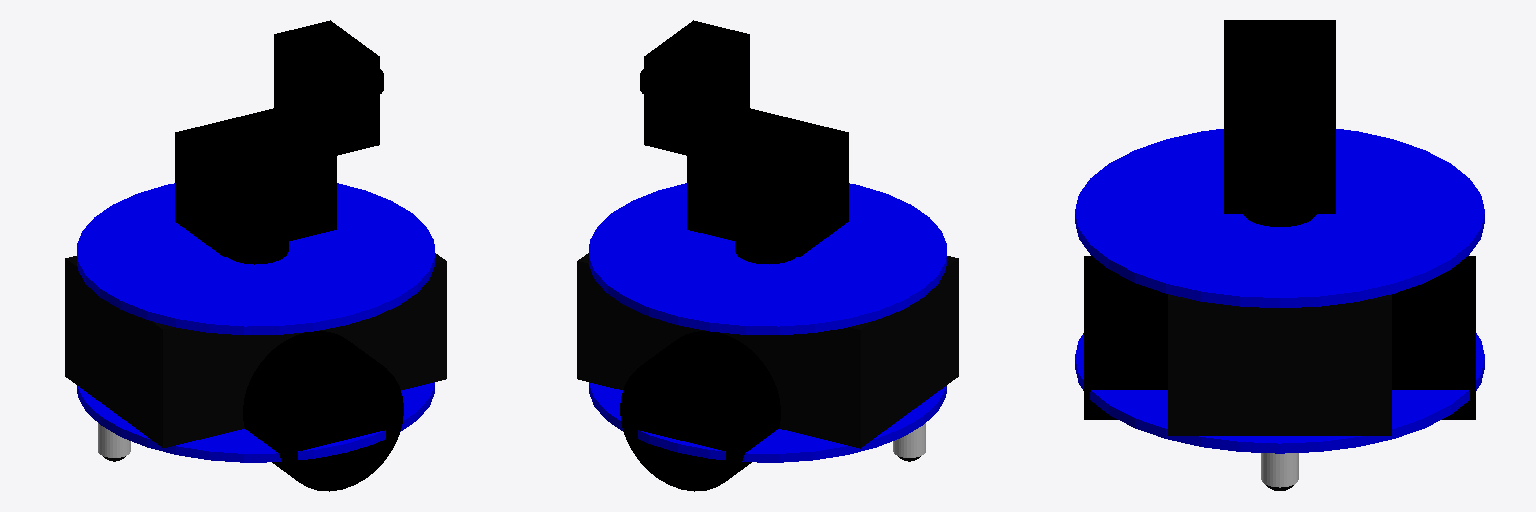
robot.urdf — Waveshare_Alphabot2:
<robot name="Waveshare_Alphabot2" xmlns:xacro="http://www.ros.org/wiki/xacro">
<!-- Colour definitions -->
<material name="black">
    <color rgba="0.0 0.0 0.0 1.0"/>
</material>
<material name="white">
    <color rgba="0.8 0.8 0.8 1.0"/>
</material>
<material name="grey">
    <color rgba="0.05 0.05 0.05 1.0"/>
</material>
<material name="blue">
    <color rgba="0.0 0.0 1.0 1.0"/>
</material>
<!-- * * * Link Definitions * * * -->
<link name="base_link">
      <visual>
        <origin xyz="0 0 0" rpy="0 0 0"/>
        <axis xyz="0 0 0" />
        <geometry>
            <cylinder radius="0.055" length="0.003"/>
        </geometry>
        <material name="blue"/>
    </visual>
</link>
<link name="body">
    <visual>
        <geometry>
            <box size="0.1 0.06 0.04"/>
        </geometry>
        <material name="grey"/>
    </visual>
</link>
<link name="top">
      <visual>
        <origin xyz="0 0 0" rpy="0 0 0"/>
        <axis xyz="0 0 0" />
        <geometry>
            <cylinder radius="0.055" length="0.003"/>
        </geometry>
        <material name="blue"/>
    </visual>
</link>
<link name="servoPanNeck">
    <visual>
        <origin xyz="0.0 0.0 0.0" />
        <geometry>
            <cylinder radius="0.010" length="0.010"/>
        </geometry>
        <material name="black" />
    </visual>
</link>
<link name="servoPan">
    <visual>
        <origin xyz="0.0 0.0 0.0" />
        <geometry>
            <box size="0.04 0.03 0.03"/>
        </geometry>
        <material name="black" />
    </visual>
</link>
<link name="servoTilt">
    <visual>
        <origin xyz="0.005 0.0 0.01" />
        <geometry>
            <box size="0.02 0.03 0.03"/>
        </geometry>
        <material name="black" />
    </visual>
</link>
<link name="camera">
    <visual>
        <origin xyz="0 0 0" rpy="0 0 0"/>
        <geometry>
            <cylinder radius="0.0075" length="0.005"/>
        </geometry>
        <material name="black" />
    </visual>
</link>
<link name="wheelLeft">
    <visual>
        <origin xyz="0 0 0" rpy="1.5708 0 0"/>
        <axis xyz="0 0 0.0" />
        <geometry>
            <cylinder radius="0.022" length="0.025"/>
        </geometry>
        <material name="black" />
    </visual>
</link>
<link name="wheelRight">
    <visual>
        <origin xyz="0 0 0" rpy="1.5708 0 0"/>
        <axis xyz="0 0 0.0" />
        <geometry>
            <cylinder radius="0.022" length="0.025"/>
        </geometry>
        <material name="black" />
    </visual>
</link>
<link name="casterFront">
    <visual>
        <origin xyz="0 0 0" rpy="0 0 0"/>
        <axis xyz="0 0 0.0" />
        <geometry>
            <cylinder radius="0.005" length="0.01"/>
        </geometry>
        <material name="white" />
    </visual>
</link>
<link name="casterBallFront">
    <visual>
        <origin xyz="0 0 0" rpy="0 0 0"/>
        <axis xyz="0 0 0.0" />
        <geometry>
            <sphere radius="0.005"/>
        </geometry>
        <material name="grey" />
    </visual>
</link>
<link name="casterRear">
    <visual>
        <origin xyz="0 0 0" rpy="0 0 0"/>
        <axis xyz="0 0 0.0" />
        <geometry>
            <cylinder radius="0.005" length="0.01"/>
        </geometry>
        <material name="white" />
    </visual>
</link>
<link name="casterBallRear">
    <visual>
        <origin xyz="0 0 0" rpy="0 0 0"/>
        <axis xyz="0 0 0.0" />
        <geometry>
            <sphere radius="0.005"/>
        </geometry>
        <material name="grey" />
    </visual>
</link>
<!-- Body -->
<joint name="body_joint" type="fixed">
    <origin xyz="0 0 0.0215" rpy="0 0 0"/>
    <parent link="base_link"/>
    <child link="body"/>
</joint>
<joint name="top_joint" type="fixed">
    <origin xyz="0 0 0.0215" rpy="0 0 0"/>
    <parent link="body"/>
    <child link="top"/>
</joint>
<joint name="casterFront_joint" type="fixed">
    <origin xyz="0.05 0.0 -0.0065" rpy="0 0 0"/>
    <parent link="base_link"/>
    <child link="casterFront"/>
</joint>
<joint name="casterBallFront_joint" type="fixed">
    <origin xyz="0.0 0.0 -0.003" rpy="0 0 0"/>
    <parent link="casterFront"/>
    <child link="casterBallFront"/>
</joint>
<joint name="casterRear_joint" type="fixed">
    <origin xyz="-0.05 0.0 -0.0065" rpy="0 0 0"/>
    <parent link="base_link"/>
    <child link="casterRear"/>
</joint>
<joint name="casterBallRear_joint" type="fixed">
    <origin xyz="0.0 0.0 -0.003" rpy="0 0 0"/>
    <parent link="casterRear"/>
    <child link="casterBallRear"/>
</joint>
<!-- Head Tilt/Pan -->
<joint name="servoPanNeck_joint" type="fixed">
    <origin xyz="0.0 0.0 0.005" rpy="0 0 0"/>
    <parent link="top"/>
    <child link="servoPanNeck"/>
</joint>
<joint name="headPan_joint" type="revolute">
    <origin xyz="0.0 0.0 0.02" rpy="0 0 0"/>
    <axis xyz="0 0 1" />
    <parent link="servoPanNeck"/>
    <child link="servoPan"/>
    <limit effort="100" velocity="1.0" lower="-1.5708" upper="1.5708" />
</joint>
<joint name="headTilt_joint" type="revolute">
    <origin xyz="0.02 0.0 0.015" rpy="0 0 0"/>
    <axis xyz="0 1 0" />
    <parent link="servoPan"/>
    <child link="servoTilt"/> 
    <limit effort="100" velocity="1.0" lower="-1.0" upper="1.0" />
</joint>
<!-- Camera -->
<joint name="camera_joint" type="fixed">
    <origin xyz="0.0165 0.0 0.01" rpy="0 0 0"/>
    <parent link="servoTilt"/>
    <child link="camera"/>
</joint>
<!-- Left Wheel Joint -->
<joint name="wheelLeft_joint" type="fixed">
    <origin xyz="0.0 0.04 0.007" rpy="0 0 0"/>
    <axis xyz="0 1 0" />
    <parent link="base_link"/>
    <child link="wheelLeft"/> 
</joint>
<!-- Right Wheel Joint -->
<joint name="wheelRight_joint" type="fixed">
    <origin xyz="0.0 -0.04 0.007" rpy="0 0 0"/>
    <axis xyz="0 1 0" />
    <parent link="base_link"/>
    <child link="wheelRight"/> 
</joint>
<!-- Gazebo plugin for ROS Control -->
<transmission name="tranRight">
    <type>transmission_interface/SimpleTransmission</type>
    <joint name="wheelRight">
        <hardwareInterface>EffortJointInterface</hardwareInterface>
    </joint>
    <actuator name="motorRight">
        <hardwareInterface>EffortJointInterface</hardwareInterface>
        <mechanicalReduction>1</mechanicalReduction>
    </actuator>
</transmission>
<transmission name="tranLeft">
    <type>transmission_interface/SimpleTransmission</type>
    <joint name="jointLeft">
        <hardwareInterface>EffortJointInterface</hardwareInterface>
    </joint>
    <actuator name="motorLeft">
        <hardwareInterface>EffortJointInterface</hardwareInterface>
        <mechanicalReduction>1</mechanicalReduction>
    </actuator>
</transmission>
<gazebo>
  <plugin name="gazebo_ros_control" filename="libgazebo_ros_control.so">
    <robotNamespace>/Waveshare_Alphabot2</robotNamespace>
  </plugin>
</gazebo>
</robot>

--- Facts derived from the render (not from the file) ---
The picture shows the robot from 3 angles, left to right: view 1: azimuth 30°, elevation 25°; view 2: azimuth 150°, elevation 25°; view 3: azimuth 270°, elevation 25°; orthographic projection.
Robot: Waveshare_Alphabot2 — 13 links, 12 joints (2 revolute, 10 fixed); root link base_link; default pose: all joints at 0.
Visible links, largest first — view 1: top, body, servoPan, wheelRight, servoTilt, base_link, servoPanNeck, casterRear; view 2: top, body, servoPan, wheelLeft, servoTilt, base_link, servoPanNeck, casterRear; view 3: top, body, servoTilt, wheelLeft, wheelRight, base_link, servoPan, camera, casterFront, servoPanNeck.
Link boxes in pixels (left/top/right/bottom): top: left=77, top=183, right=434, bottom=334; body: left=65, top=253, right=446, bottom=448; servoPan: left=175, top=108, right=336, bottom=256; wheelRight: left=243, top=331, right=403, bottom=491; servoTilt: left=274, top=20, right=379, bottom=158; base_link: left=77, top=382, right=434, bottom=462; servoPanNeck: left=227, top=242, right=288, bottom=264; casterRear: left=98, top=423, right=130, bottom=457; top: left=589, top=183, right=946, bottom=334; body: left=577, top=253, right=958, bottom=448; servoPan: left=687, top=108, right=848, bottom=256; wheelLeft: left=620, top=331, right=780, bottom=491; servoTilt: left=644, top=20, right=749, bottom=157; base_link: left=589, top=382, right=946, bottom=462; servoPanNeck: left=735, top=242, right=796, bottom=264; casterRear: left=893, top=423, right=925, bottom=457; top: left=1075, top=129, right=1484, bottom=307; body: left=1168, top=294, right=1391, bottom=435; servoTilt: left=1224, top=20, right=1335, bottom=152; wheelLeft: left=1392, top=256, right=1475, bottom=419; wheelRight: left=1084, top=256, right=1167, bottom=419; base_link: left=1075, top=333, right=1484, bottom=453; servoPan: left=1224, top=153, right=1335, bottom=213; camera: left=1252, top=94, right=1307, bottom=124; casterFront: left=1261, top=453, right=1298, bottom=487; servoPanNeck: left=1243, top=214, right=1316, bottom=226.
Bounding box of the posed robot: 0.11 × 0.11 × 0.123 m (x, y, z).
Geometry: primitives only (box / cylinder / sphere), no mesh files.